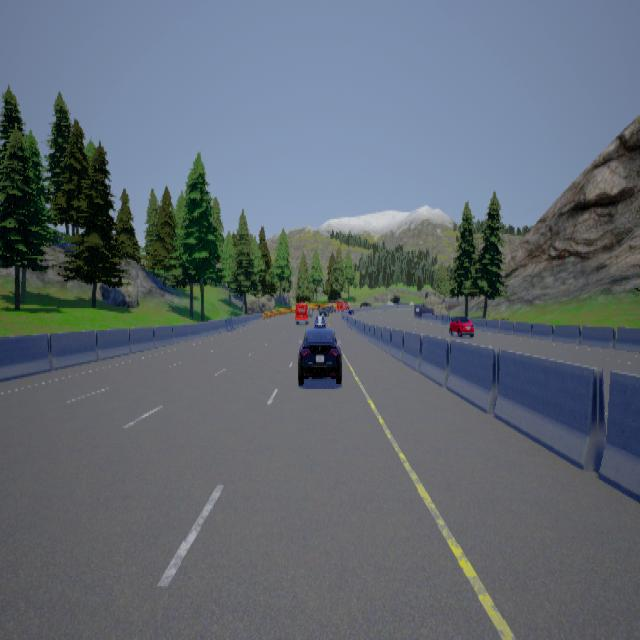bike: (311, 310, 330, 333)
vehicle: (297, 330, 343, 384), (450, 310, 477, 340), (294, 298, 311, 327)
